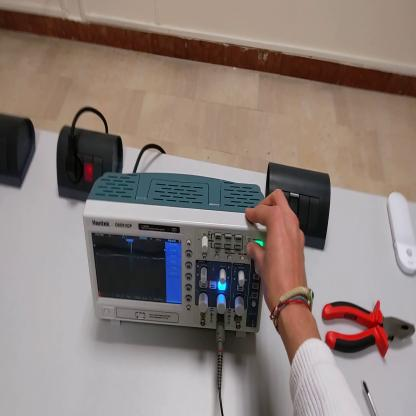hand: (245, 188, 310, 315)
oscilloscope: (83, 174, 266, 339)
pliers: (318, 291, 416, 359)
screwdriver-: (363, 380, 380, 415)
socket: (54, 127, 125, 202), (2, 111, 40, 192)
